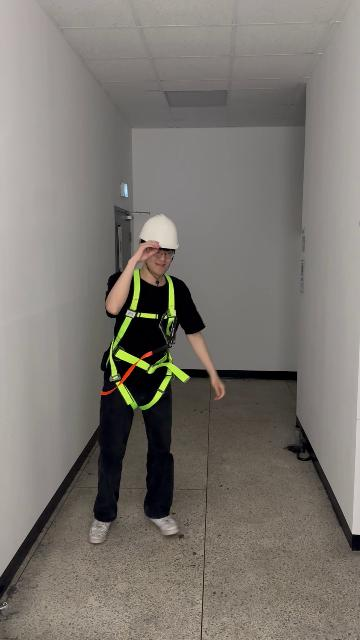helmet_worn: (137, 213, 181, 250)
shoe_not_worn: (147, 514, 179, 535), (89, 517, 112, 544)
vest_worn: (103, 271, 190, 410)
